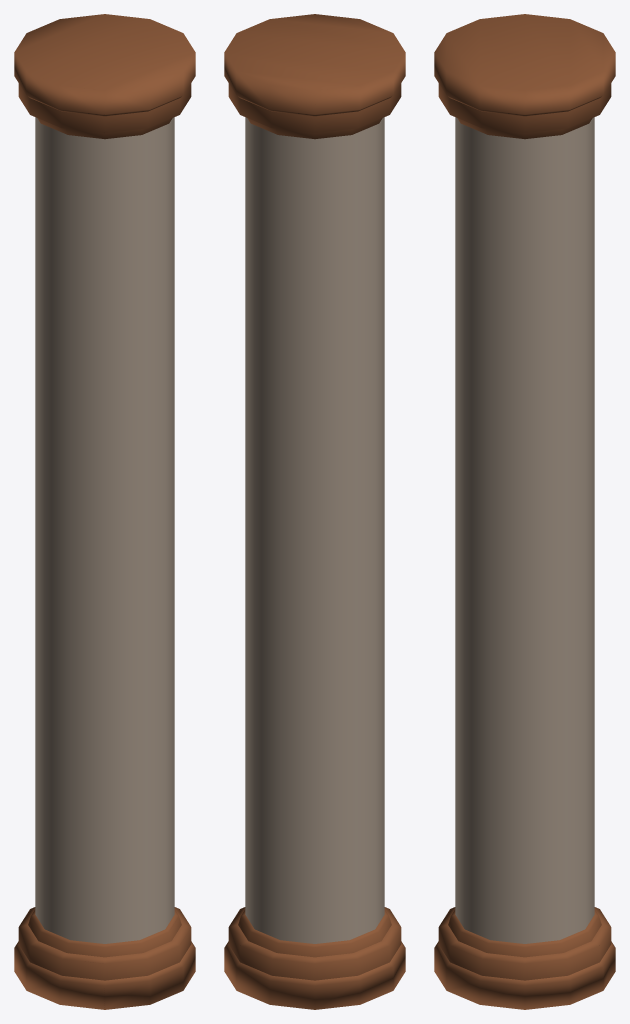
The model's file is pilar_asset.fbx.
3 views of the same model, side by side, from view 1: azimuth 30°, elevation 25°; view 2: azimuth 150°, elevation 25°; view 3: azimuth 270°, elevation 25° (orthographic).
Visible parts, largest first — view 1: Pilar; view 2: Pilar; view 3: Pilar.
Part boxes in pixels (box(x1,y1,x2,y2)): Pilar: box(14, 14, 195, 1009); Pilar: box(224, 14, 405, 1009); Pilar: box(434, 14, 615, 1009).
Size of the model in its own units: 2.6 by 14.58 by 2.6.
